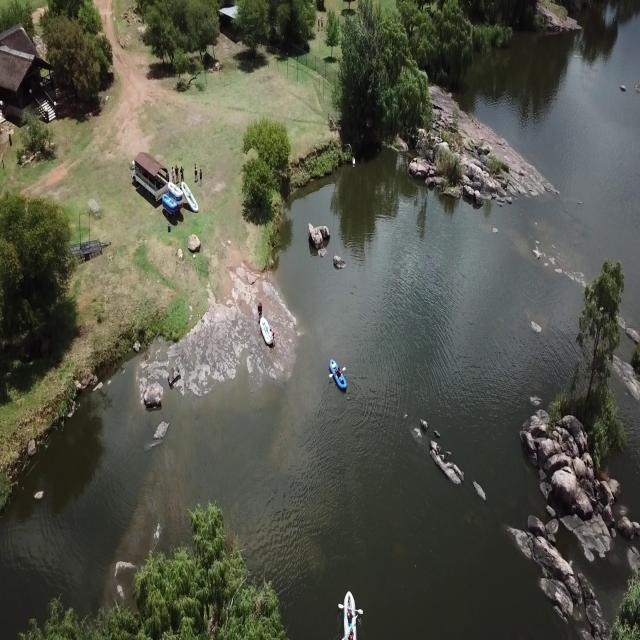kayak: (338, 585, 365, 640), (328, 353, 349, 393)
